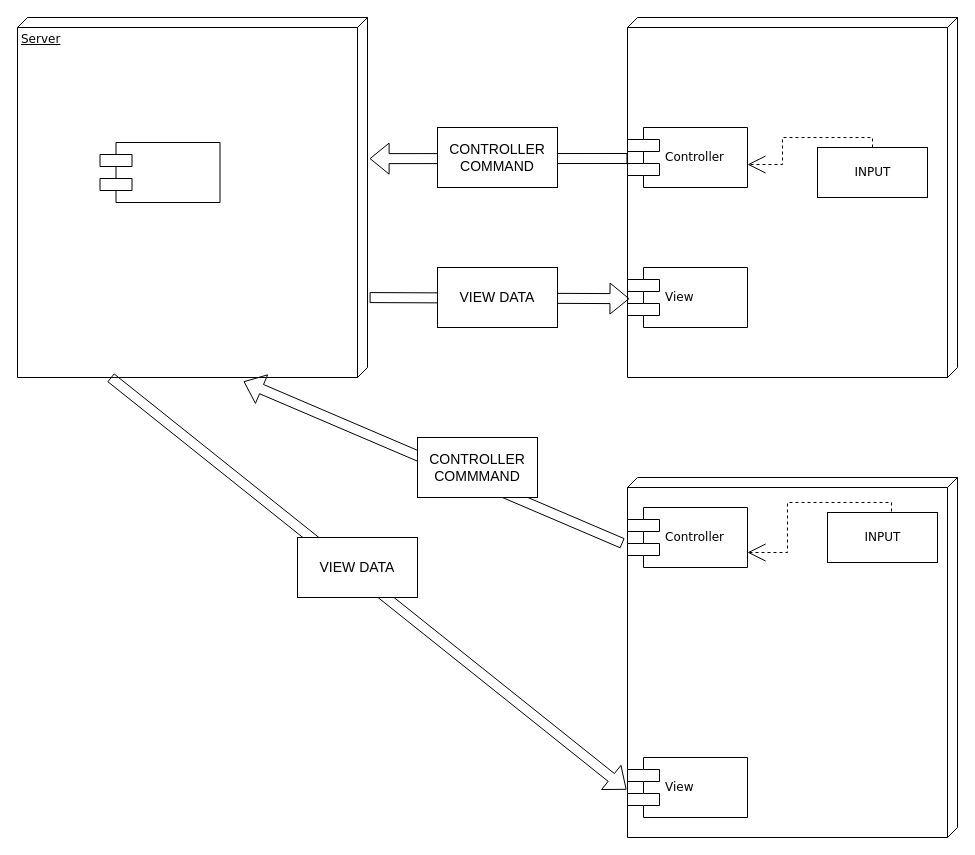
Image size: 975x855. Some labels were removed from this diagram. The shapes that lost their labels are listed below. From the top down, each one's box as (x1, y1, x2, y2) in pixels, then its label:
(99, 142, 220, 202): Model
(626, 16, 958, 378): Client 1
(626, 476, 958, 838): Client 2
